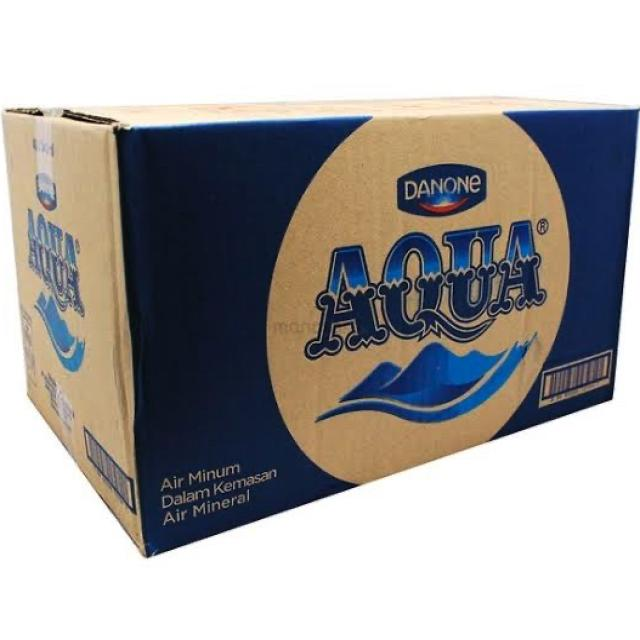Kardus: (0, 97, 639, 558), (312, 331, 539, 425)
